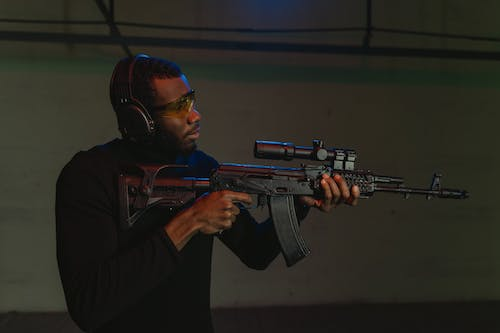gun: (115, 136, 471, 269)
